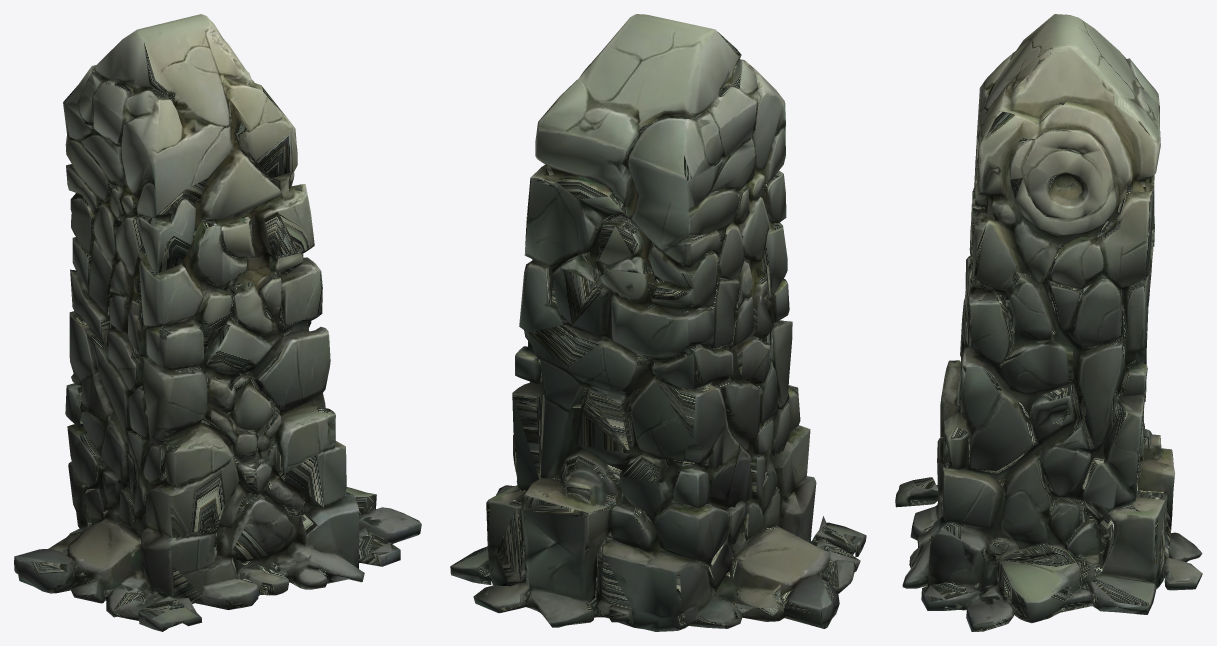
File: Ancient_Obelisk.glb
3 renders of one model, left to right at view 1: azimuth 30°, elevation 25°; view 2: azimuth 150°, elevation 25°; view 3: azimuth 270°, elevation 25°, orthographic. The views are drawn at different scales.
Visible parts, largest first — view 1: Ancient_Obelisk; view 2: Ancient_Obelisk; view 3: Ancient_Obelisk.
Boxes of the visible parts, left/top/right/bottom form: Ancient_Obelisk: left=14, top=14, right=421, bottom=631; Ancient_Obelisk: left=450, top=14, right=866, bottom=631; Ancient_Obelisk: left=895, top=14, right=1202, bottom=631.
Size of the model in its own units: 1.42 by 2 by 1.09.
Materials: 1 (1 with a texture image).
